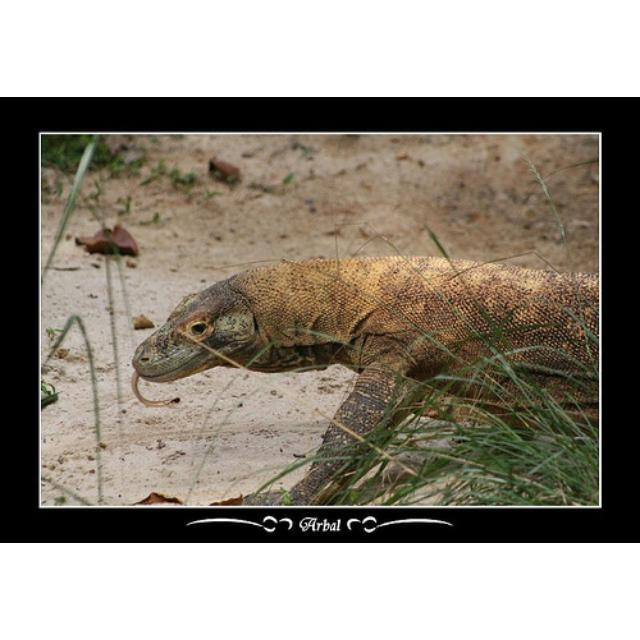KomodoDragon: (129, 258, 596, 503)
